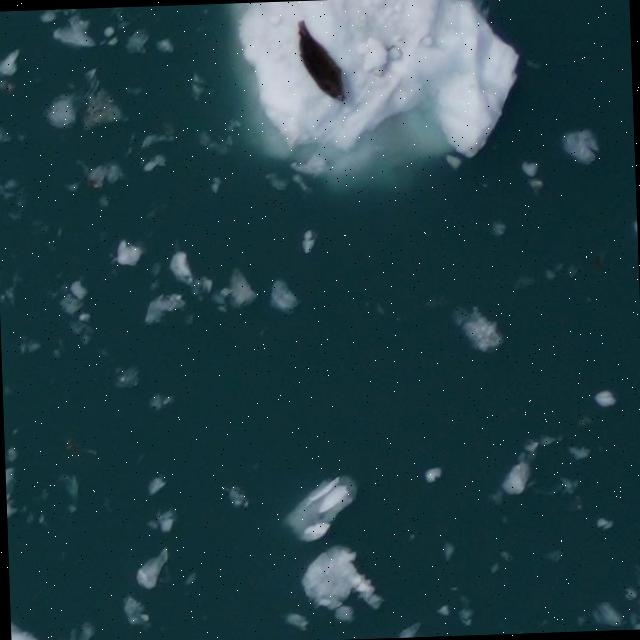seal: (280, 13, 360, 110)
